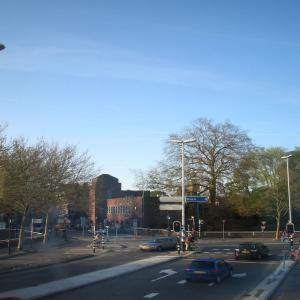Vehicle-registration-plate: (196, 272, 206, 274), (242, 252, 250, 253)
